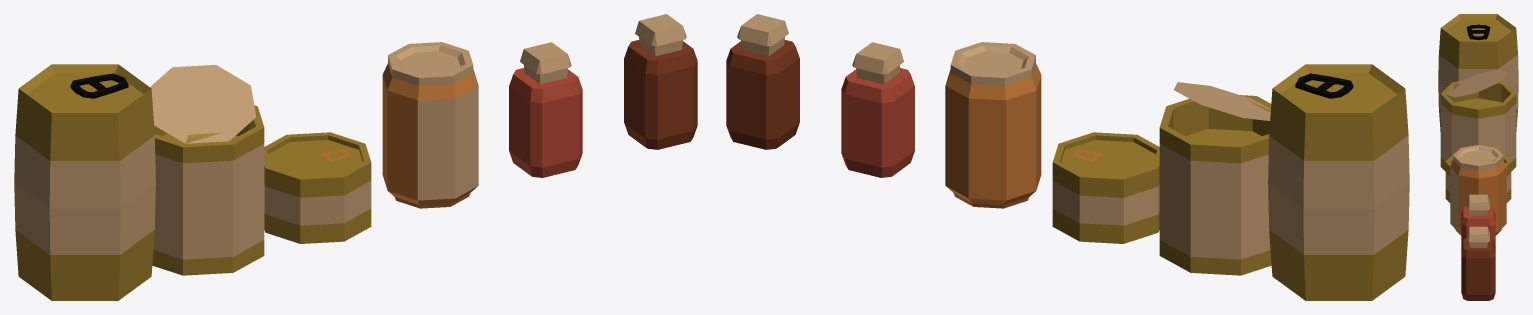
File: Dosen_01.fbx
3 renders of one model, left to right at view 1: azimuth 30°, elevation 25°; view 2: azimuth 150°, elevation 25°; view 3: azimuth 270°, elevation 25°, orthographic. The views are drawn at different scales.
Parts seen in each view (by area): view 1: Dose_01, Dose_02, Dose_04, Dose_03, shakerPepper, shakerSalt; view 2: Dose_01, Dose_02, Dose_04, Dose_03, shakerPepper, shakerSalt; view 3: Dose_02, Dose_01, Dose_04, shakerSalt, shakerPepper, Dose_03.
Part boxes in pixels (<box>): Dose_01: <box>14,64,155,300</box>; Dose_02: <box>150,65,264,275</box>; Dose_04: <box>382,42,478,208</box>; Dose_03: <box>264,132,371,243</box>; shakerPepper: <box>509,42,582,177</box>; shakerSalt: <box>624,14,697,149</box>; Dose_01: <box>1268,64,1409,300</box>; Dose_02: <box>1159,82,1271,275</box>; Dose_04: <box>945,42,1041,208</box>; Dose_03: <box>1052,132,1159,243</box>; shakerPepper: <box>841,42,914,177</box>; shakerSalt: <box>726,14,799,149</box>; Dose_02: <box>1440,69,1516,171</box>; Dose_01: <box>1438,14,1518,131</box>; Dose_04: <box>1450,145,1506,235</box>; shakerSalt: <box>1461,226,1495,300</box>; shakerPepper: <box>1461,194,1495,244</box>; Dose_03: <box>1445,152,1511,202</box>.
Bounding box in the file's own units: 56.88 × 15.68 × 10.65.
